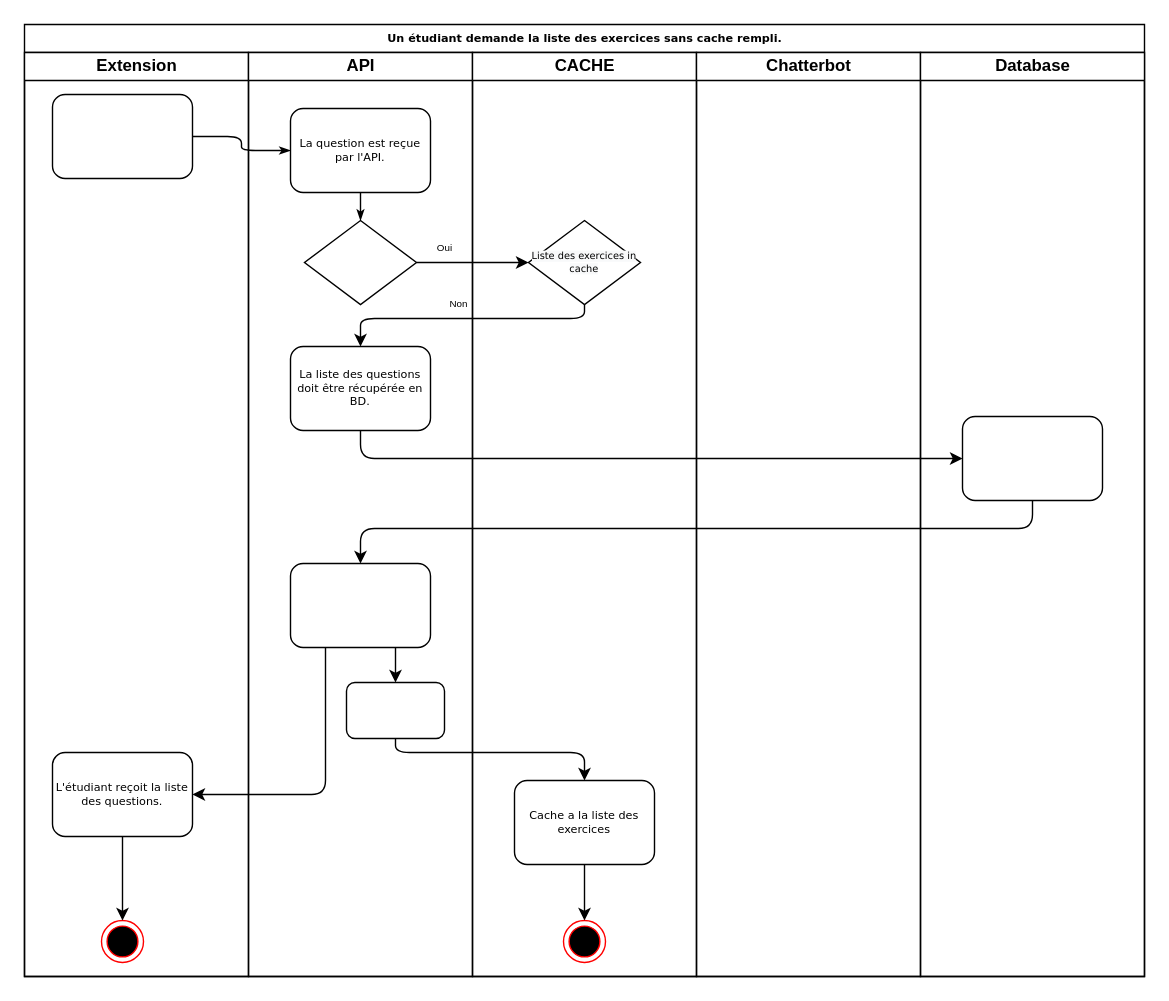
Some shapes in this 1169 by 1001 pixel diagram are drawn without their labels. The shapes that lost their labels are listed below. From the top down, each one's centre as x and y in pixels, then its label:
[121,135]: L'étudiant pose une question.
[359,261]: Texte is like "liste des exercices"
[1031,457]: Récupère la liste des exercices.
[359,605]: API a la liste des exercices
[394,709]: Mettre la liste d'exercices dans le cache.
